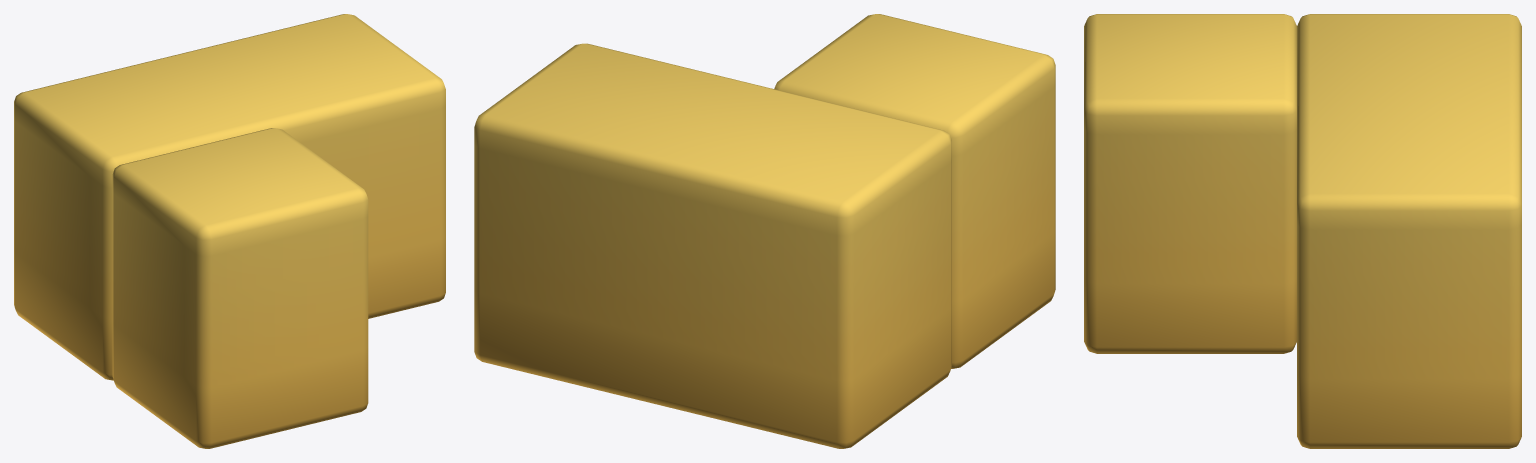
The model's file is mct_homepart_room03b.fbx.
The picture shows the model from 3 angles, left to right: view 1: azimuth 30°, elevation 25°; view 2: azimuth 150°, elevation 25°; view 3: azimuth 270°, elevation 25°; orthographic projection. The views are drawn at different scales.
Visible parts, largest first — view 1: room_03b; view 2: room_03b; view 3: room_03b.
Boxes of the visible parts, left/top/right/bottom form: room_03b: left=14, top=14, right=445, bottom=448; room_03b: left=474, top=14, right=1055, bottom=448; room_03b: left=1084, top=14, right=1521, bottom=448.
Size of the model in its own units: 400 by 250 by 389.
